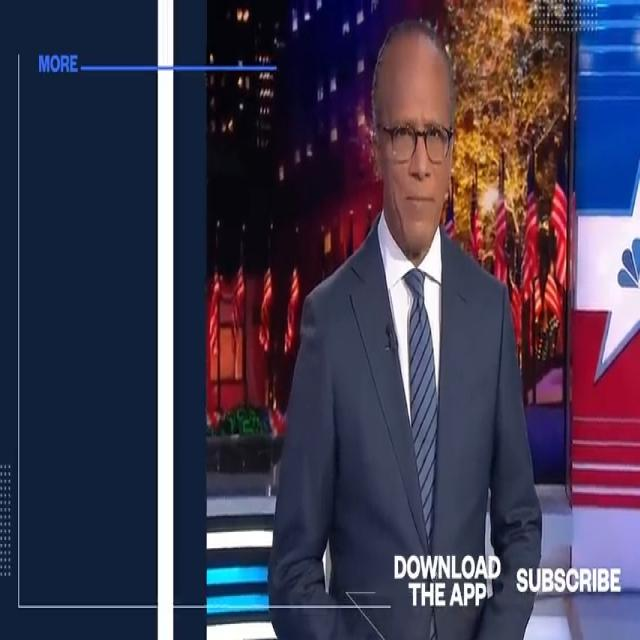non-fight: (256, 10, 555, 640)
